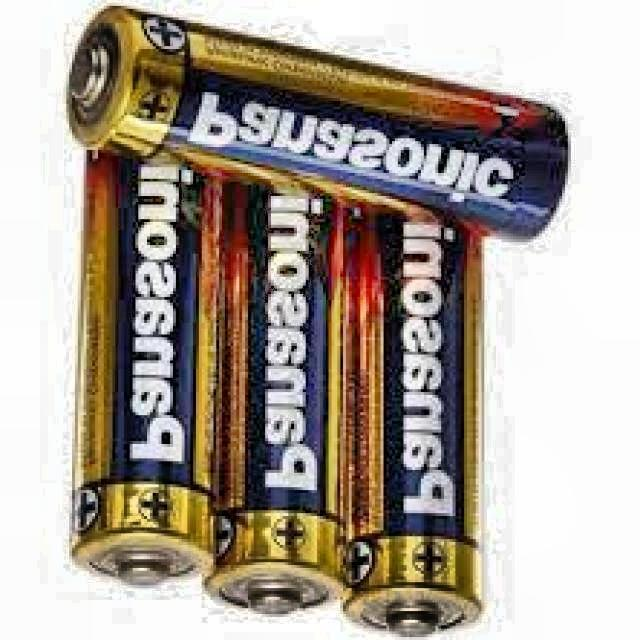battery: (68, 9, 571, 243), (69, 155, 228, 588), (202, 181, 354, 616), (342, 207, 487, 638)
